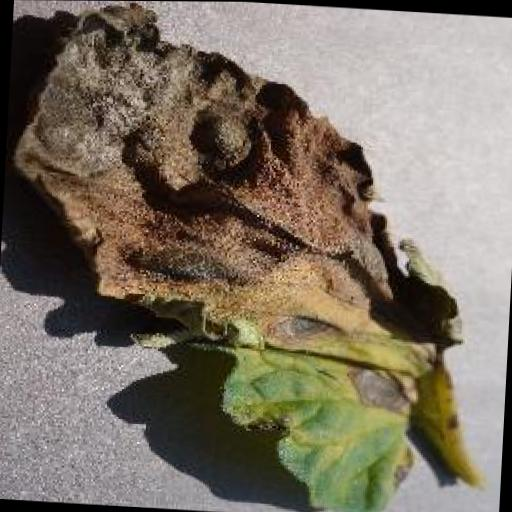Early Blight: (2, 0, 501, 512)
